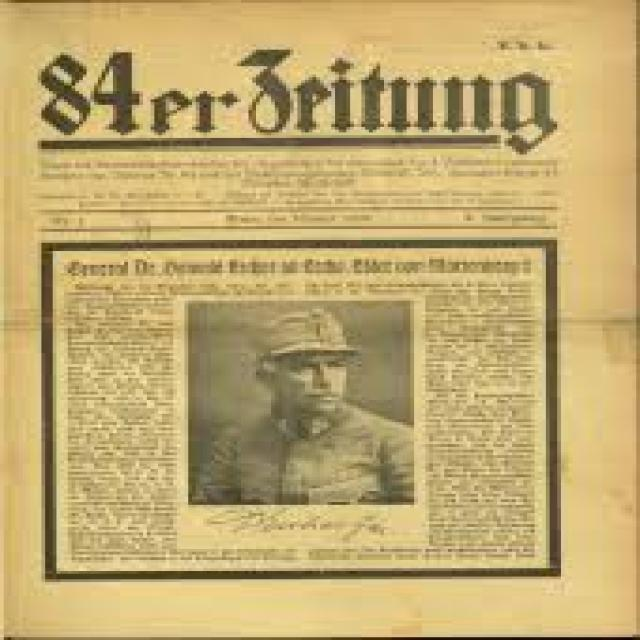paper: (31, 51, 586, 609)
